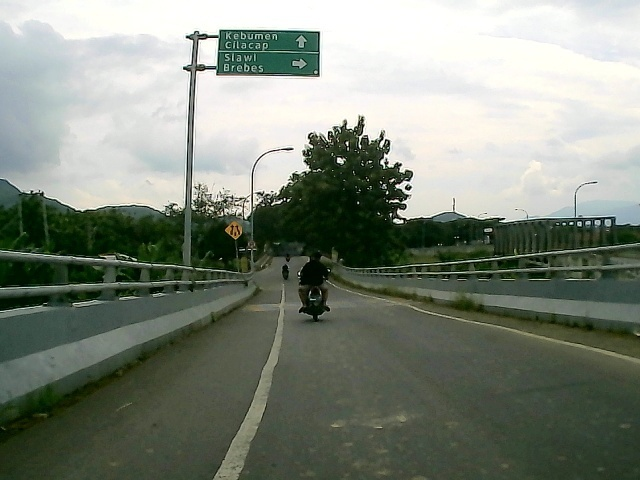Akhir bangunan pemisah satu arah: (221, 220, 247, 241)
